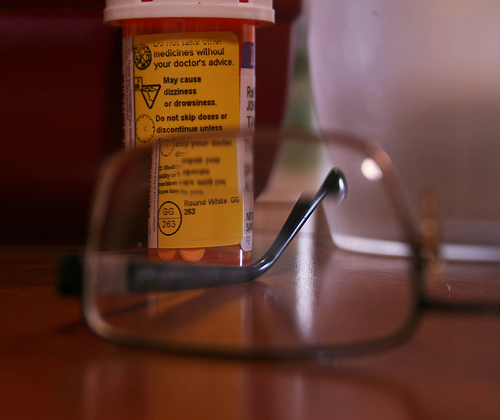pill bottle: (109, 1, 266, 265)
